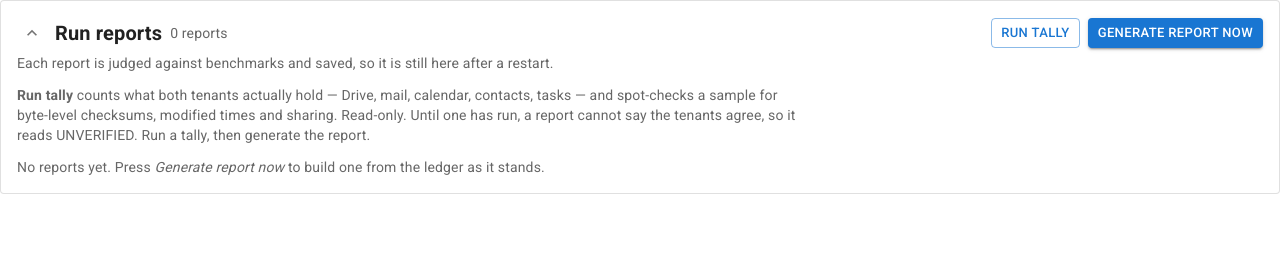
RunReports › starts a tally for the account on screen and says what happened
Step 1. Click the button "Run tally" → {"x": 1035, "y": 33}, box left=991, top=18, right=1080, bottom=48
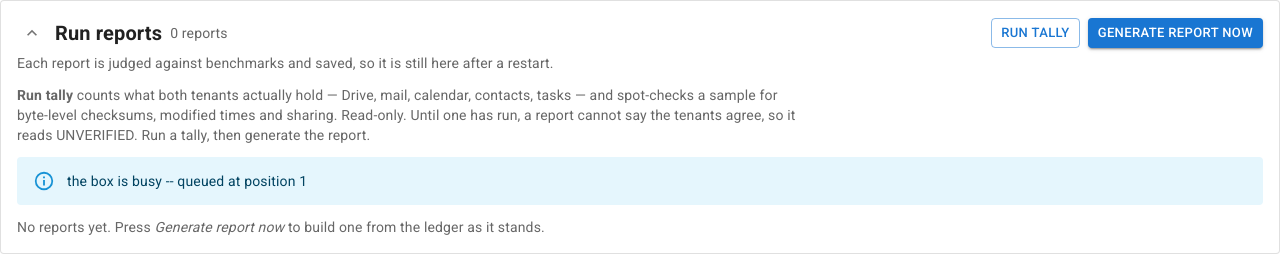
Check: the message with test id "tally-started" shows "queued at position 1", box left=67, top=173, right=307, bottom=189
